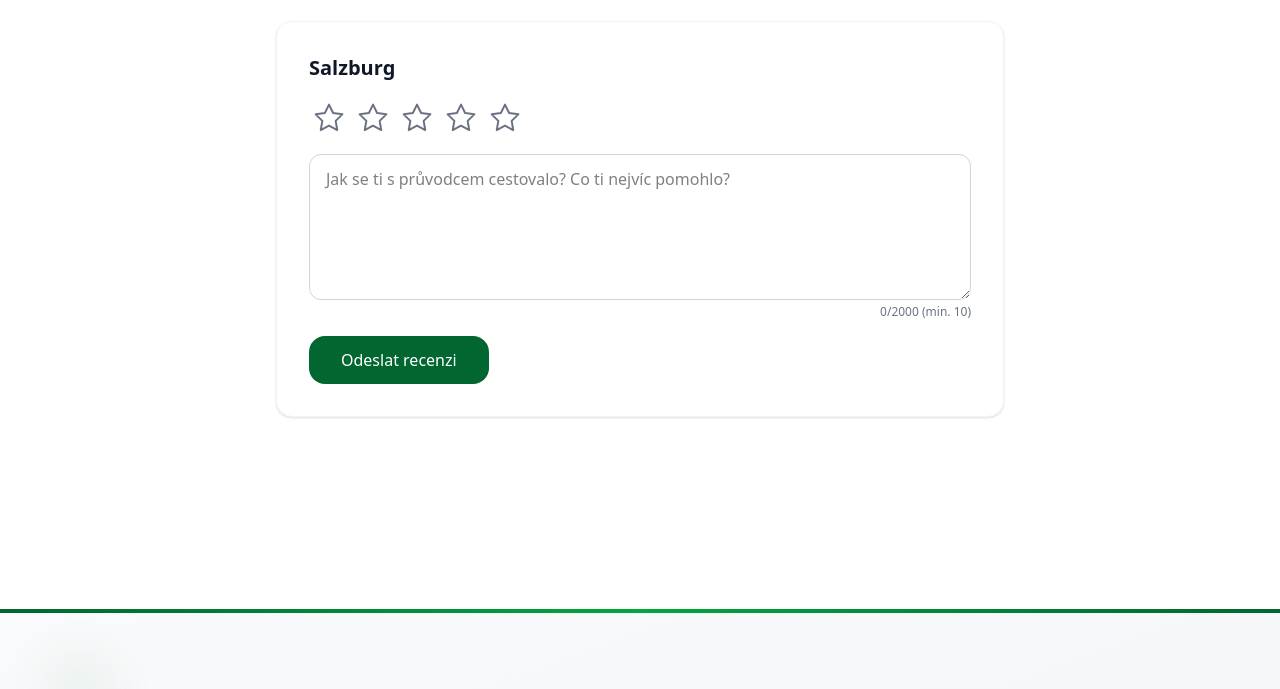
Test: ReviewSubmit › odeslání recenze › blocks submit and shows Czech message when no rating is selected
(page scrolled)
expect the heading "Salzburg" is shown: met, box x1=309 y1=54 x2=395 y2=81
Click the button "Odeslat recenzi" at (399, 360), box x1=309 y1=336 x2=489 y2=384
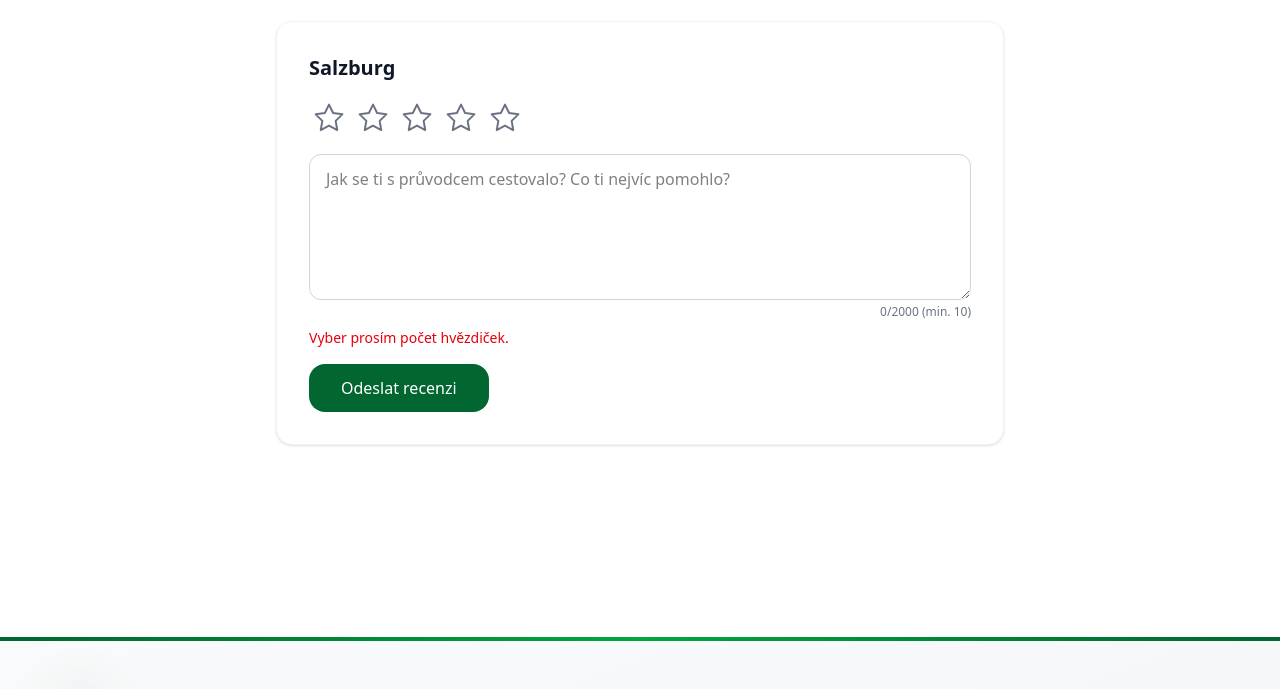
expect the text "Vyber prosím počet hvězdiček." is shown: met, box x1=309 y1=328 x2=509 y2=347
